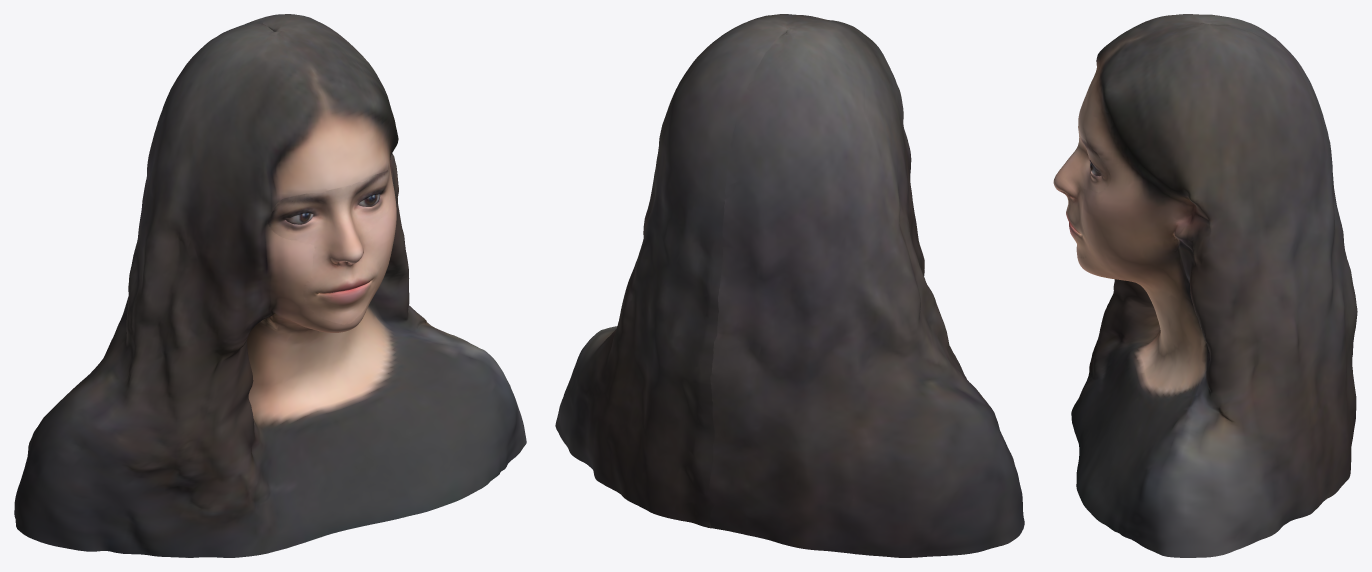
File: KarlaVelazquez.gltf
3 views of the same model, side by side, from view 1: azimuth 30°, elevation 25°; view 2: azimuth 150°, elevation 25°; view 3: azimuth 270°, elevation 25° (orthographic). The views are drawn at different scales.
Visible parts, largest first — view 1: KarlaVelazquez; view 2: KarlaVelazquez; view 3: KarlaVelazquez.
Part boxes in pixels (bbox=[...]): KarlaVelazquez: bbox=[14, 14, 526, 557]; KarlaVelazquez: bbox=[555, 14, 1024, 557]; KarlaVelazquez: bbox=[1053, 14, 1357, 557].
Bounding box in the file's own units: 8.95 × 8.15 × 5.24.
1 material, 1 textured.
